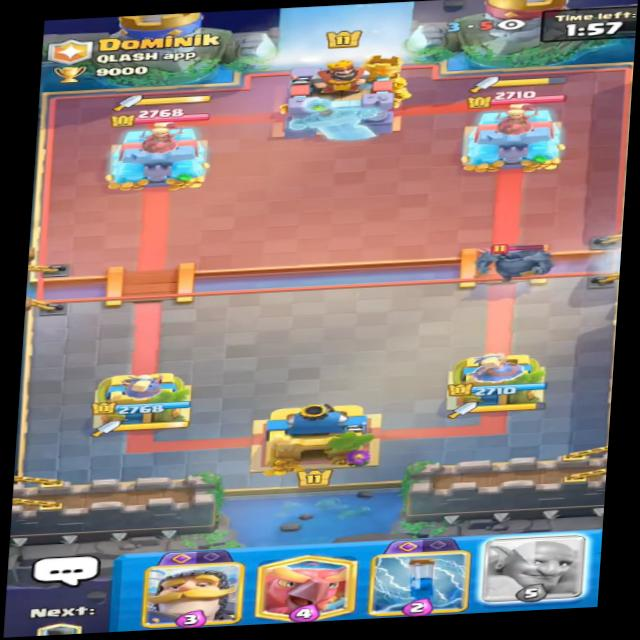pekka: (466, 236, 556, 291)
